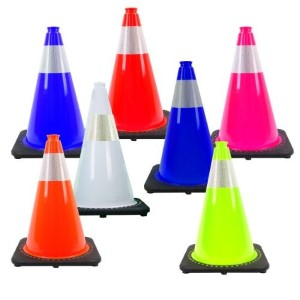traffic cone: (11, 133, 101, 268), (179, 141, 269, 276), (144, 61, 234, 195), (63, 82, 150, 219), (206, 26, 294, 160), (11, 26, 96, 161), (91, 8, 174, 141)
